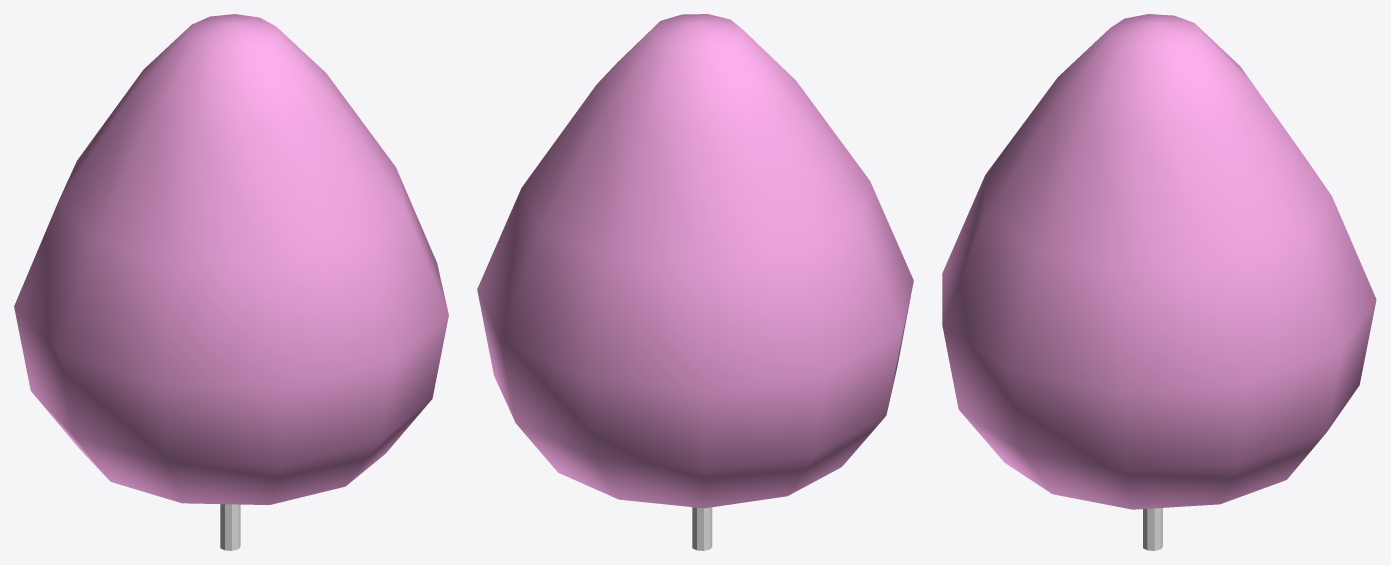
Rendered from 020_Candy_Tree_042.fbx.
3 views of the same model, side by side, from view 1: azimuth 30°, elevation 25°; view 2: azimuth 150°, elevation 25°; view 3: azimuth 270°, elevation 25° (orthographic).
Parts seen in each view (by area): view 1: Sphere.049, Cylinder.009; view 2: Sphere.049, Cylinder.009; view 3: Sphere.049, Cylinder.009.
Part boxes in pixels (x1,y1,x2,y2): Sphere.049: (14,14,448,504); Cylinder.009: (220,504,240,550); Sphere.049: (477,14,913,508); Cylinder.009: (692,507,712,550); Sphere.049: (942,14,1376,509); Cylinder.009: (1143,508,1162,550).
Size of the model in its own units: 119 by 157 by 118.
